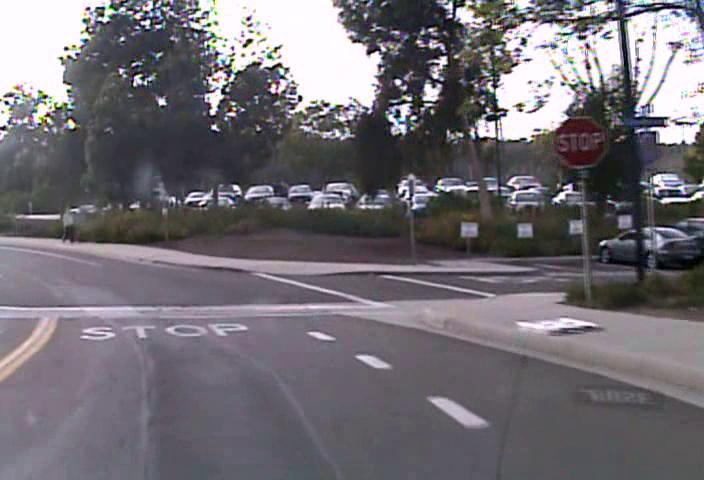stop: (553, 115, 608, 169)
